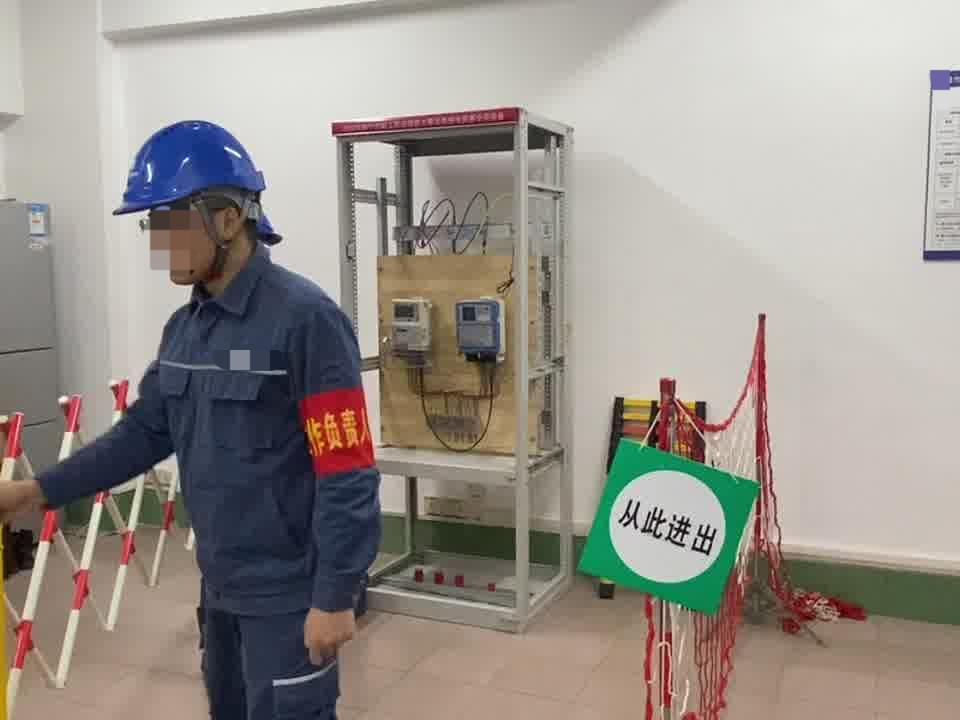halt: (103, 125, 262, 300)
inear: (200, 193, 255, 268)
